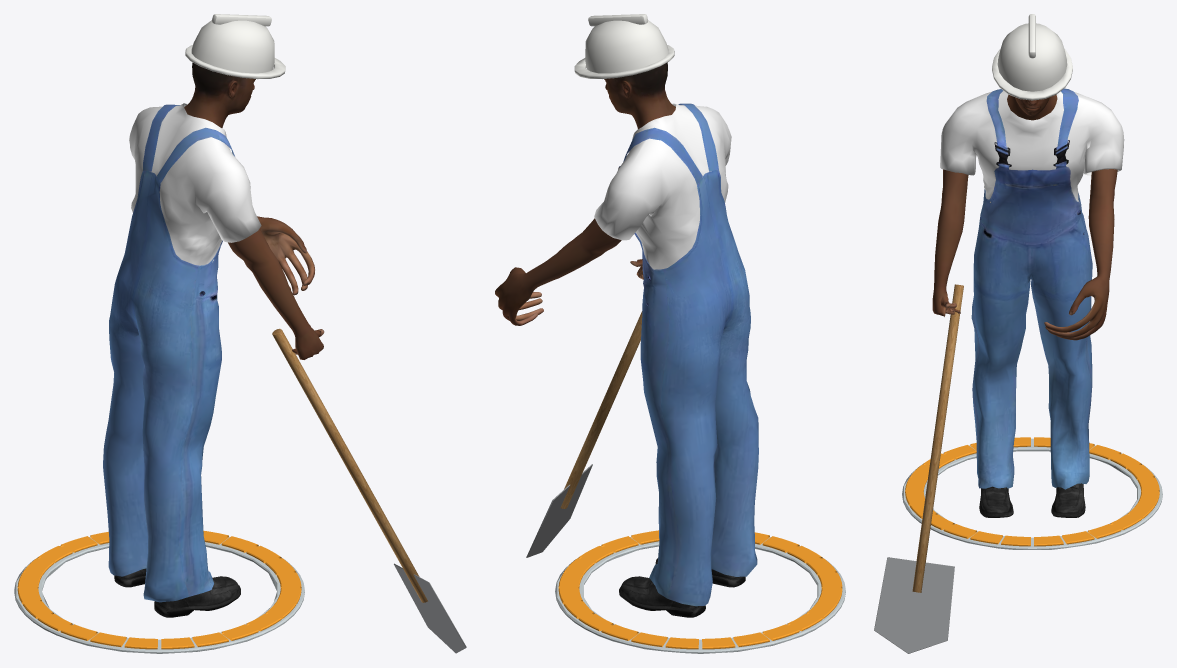
Rendered from MDO-OBR-001_lod1.glb.
The picture shows the model from 3 angles, left to right: view 1: azimuth 30°, elevation 25°; view 2: azimuth 150°, elevation 25°; view 3: azimuth 270°, elevation 25°; orthographic projection. The views are drawn at different scales.
Parts seen in each view (by area): view 1: MDO-OBR-001_pessoa_male_worksuit01, MDO-OBR-001_pessoa, MDO-OBR-001_capacete, MDO-OBR-001_ferD_cabo, MDO-OBR-001_anel_fundo, MDO-OBR-001_pessoa_shoes04, MDO-OBR-001_ferD_lamina, MDO-OBR-001_capacete_aba; view 2: MDO-OBR-001_pessoa_male_worksuit01, MDO-OBR-001_pessoa, MDO-OBR-001_capacete, MDO-OBR-001_anel_fundo, MDO-OBR-001_ferD_cabo, MDO-OBR-001_pessoa_shoes04, MDO-OBR-001_ferD_lamina, MDO-OBR-001_capacete_aba, MDO-OBR-001_capacete_friso; view 3: MDO-OBR-001_pessoa_male_worksuit01, MDO-OBR-001_pessoa, MDO-OBR-001_ferD_lamina, MDO-OBR-001_capacete, MDO-OBR-001_ferD_cabo, MDO-OBR-001_anel_fundo, MDO-OBR-001_pessoa_shoes04, MDO-OBR-001_capacete_aba.
Part boxes in pixels (x1,y1,x2,y2): MDO-OBR-001_pessoa_male_worksuit01: [103, 103, 261, 602]; MDO-OBR-001_pessoa: [184, 62, 324, 359]; MDO-OBR-001_capacete: [191, 20, 274, 73]; MDO-OBR-001_ferD_cabo: [272, 328, 427, 602]; MDO-OBR-001_anel_fundo: [14, 537, 304, 653]; MDO-OBR-001_pessoa_shoes04: [114, 568, 240, 617]; MDO-OBR-001_ferD_lamina: [394, 563, 466, 653]; MDO-OBR-001_capacete_aba: [185, 45, 285, 79]; MDO-OBR-001_pessoa_male_worksuit01: [594, 103, 758, 606]; MDO-OBR-001_pessoa: [495, 62, 675, 325]; MDO-OBR-001_capacete: [585, 20, 668, 73]; MDO-OBR-001_anel_fundo: [555, 537, 845, 653]; MDO-OBR-001_ferD_cabo: [560, 311, 642, 508]; MDO-OBR-001_pessoa_shoes04: [619, 558, 745, 617]; MDO-OBR-001_ferD_lamina: [526, 464, 592, 557]; MDO-OBR-001_capacete_aba: [574, 45, 674, 79]; MDO-OBR-001_capacete_friso: [588, 14, 647, 26]; MDO-OBR-001_pessoa_male_worksuit01: [940, 88, 1124, 489]; MDO-OBR-001_pessoa: [932, 94, 1117, 340]; MDO-OBR-001_ferD_lamina: [874, 557, 954, 653]; MDO-OBR-001_capacete: [997, 23, 1067, 91]; MDO-OBR-001_ferD_cabo: [912, 284, 963, 592]; MDO-OBR-001_anel_fundo: [902, 438, 1162, 549]; MDO-OBR-001_pessoa_shoes04: [979, 483, 1085, 517]; MDO-OBR-001_capacete_aba: [992, 49, 1072, 100].
Size of the model in its own units: 1.18 by 2.01 by 0.93.
Materials: 10 (6 with a texture image).
